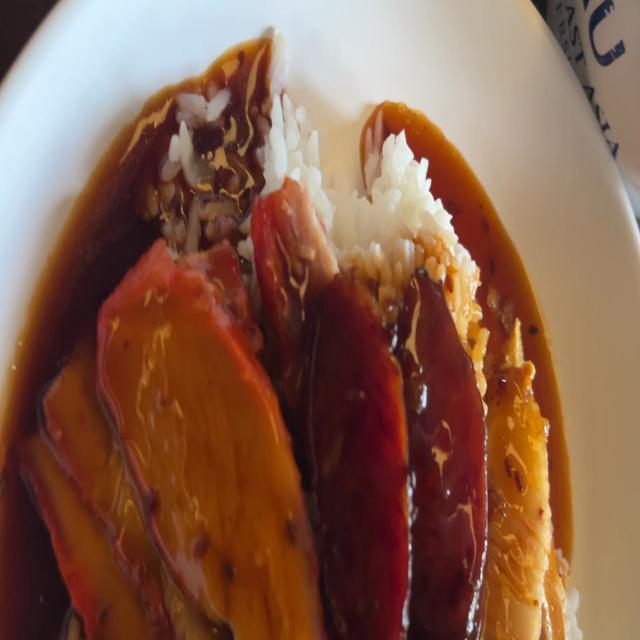stir_fried_basil: (311, 262, 486, 640), (314, 275, 395, 640), (407, 272, 482, 624)
